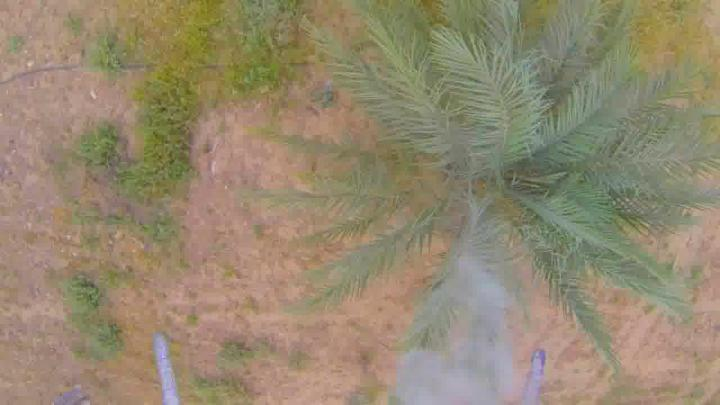Date-Palm-Crown: (389, 56, 657, 298)
